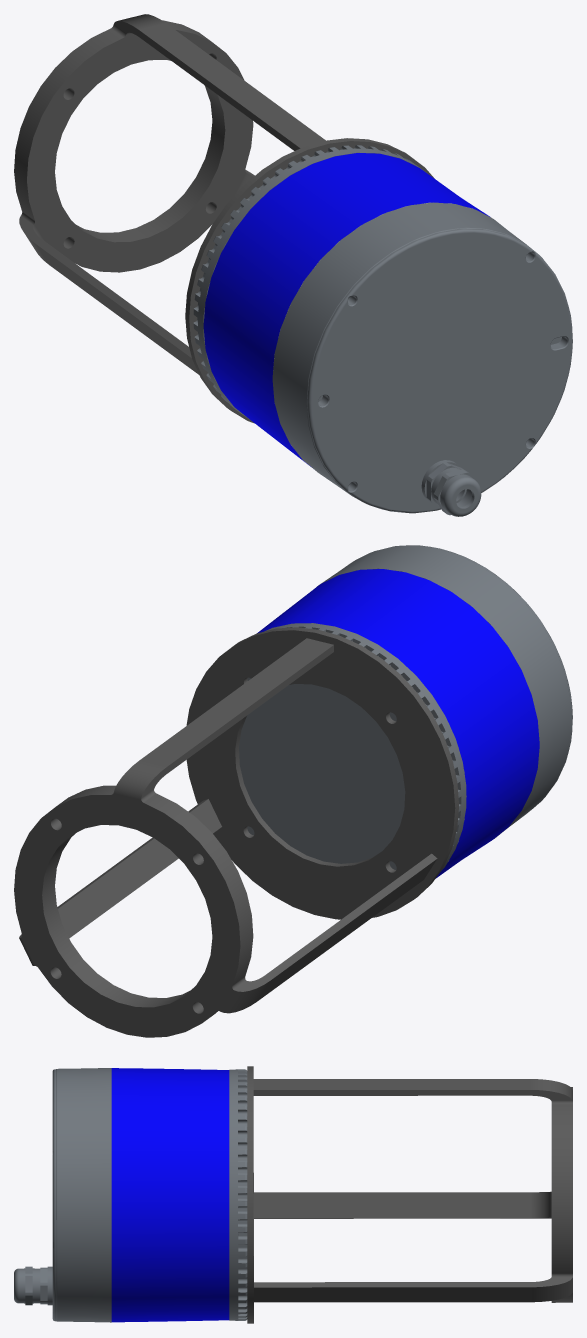
The model's file is sensor_lidar_visual.obj.
The picture shows the model from 3 angles, top to bottom: view 1: azimuth 30°, elevation 25°; view 2: azimuth 150°, elevation 25°; view 3: azimuth 270°, elevation 25°; orthographic projection. The views are drawn at different scales.
Parts seen in each view (by area): view 1: BTM_13_73_119_6.001, 雷达_雷神M10支架_1.001, ZHAO_1_1_4_4_2.001, 雷达_雷神M10支架_001.001, __V20_1_11_29_2.001, WATERPROOF-CONNECTOR_1.001; view 2: 雷达_雷神M10支架_1.001, 雷达_雷神M10支架_001.001, ZHAO_1_1_4_4_2.001, __V20_1_11_29_2.001, BTM_13_73_119_6.001; view 3: ZHAO_1_1_4_4_2.001, 雷达_雷神M10支架_1.001, BTM_13_73_119_6.001, __V20_1_11_29_2.001, 雷达_雷神M10支架_001.001, WATERPROOF-CONNECTOR_1.001.
Boxes of the visible parts, bbox=[...] form: BTM_13_73_119_6.001: bbox=[272, 202, 572, 513]; 雷达_雷神M10支架_1.001: bbox=[14, 14, 325, 374]; ZHAO_1_1_4_4_2.001: bbox=[203, 153, 491, 466]; 雷达_雷神M10支架_001.001: bbox=[185, 138, 434, 423]; __V20_1_11_29_2.001: bbox=[193, 145, 426, 418]; WATERPROOF-CONNECTOR_1.001: bbox=[426, 462, 481, 516]; 雷达_雷神M10支架_1.001: bbox=[14, 638, 437, 1037]; 雷达_雷神M10支架_001.001: bbox=[186, 627, 458, 919]; ZHAO_1_1_4_4_2.001: bbox=[257, 569, 539, 878]; __V20_1_11_29_2.001: bbox=[239, 623, 466, 871]; BTM_13_73_119_6.001: bbox=[317, 545, 572, 838]; ZHAO_1_1_4_4_2.001: bbox=[111, 1068, 229, 1322]; 雷达_雷神M10支架_1.001: bbox=[253, 1079, 572, 1302]; BTM_13_73_119_6.001: bbox=[47, 1068, 111, 1322]; __V20_1_11_29_2.001: bbox=[229, 1069, 247, 1320]; 雷达_雷神M10支架_001.001: bbox=[247, 1066, 253, 1323]; WATERPROOF-CONNECTOR_1.001: bbox=[14, 1266, 47, 1305].
Size of the model in its own units: 0.1029 by 0.1029 by 0.2234.
